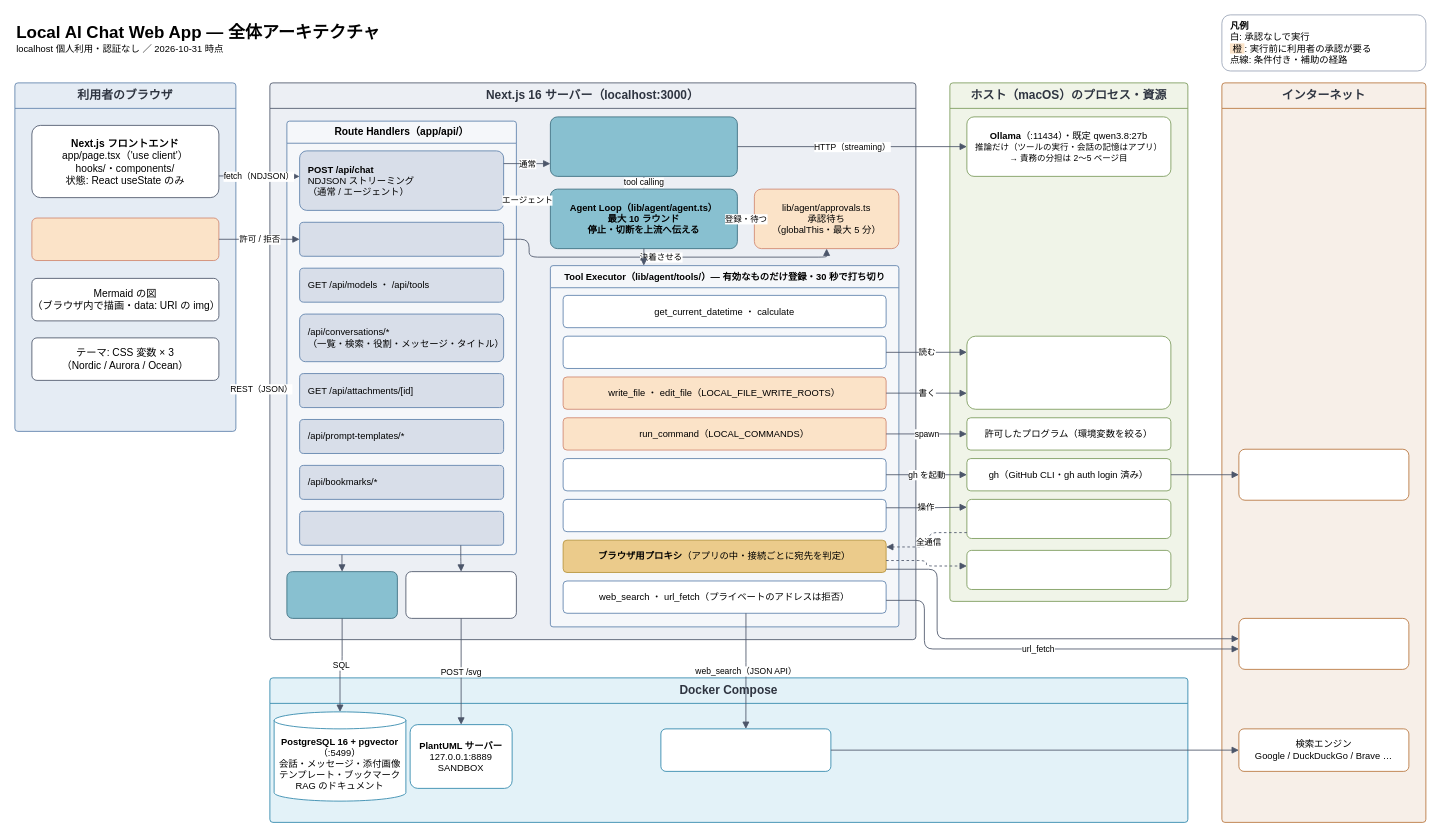
The diagram is 1441 pixels wide and 837 high, and some of its shapes have lost their labels. Each missing label, with the centre of its shape:
"browser_navigate ・ snapshot ・ screenshot ／ click ・ type ・ select" belongs at pixel 724 515.
"Chromium（ヘッドレス・playwright-core） 応答ごとの空のコンテキスト" belongs at pixel 1068 518.
"GitHub （GITHUB_REPOS のリポジトリだけ）" belongs at pixel 1323 474.
"github_list ・ view ・ pr_diff ／ github_comment ・ create_pr" belongs at pixel 724 474.
"lib/llm/ollama.ts 接続先・モデル解決を集約 streamChat / chatOnce / listModels / embed" belongs at pixel 643 146.
"lib/server/ plantuml.ts" belongs at pixel 460 594.
"list_directory ・ search_files ・ read_file（LOCAL_FILE_ROOTS）" belongs at pixel 724 351.
"POST /api/agent/approvals/[id]" belongs at pixel 401 238.
"POST /api/diagrams/plantuml" belongs at pixel 401 527.
"Prisma 7 ORM generated/prisma" belongs at pixel 341 594.
"SearXNG 127.0.0.1:8888" belongs at pixel 745 749.
"ローカルのファイル （許可したフォルダだけ・ .env・鍵などの秘匿ファイルは除外）" belongs at pixel 1068 372.
"公開の Web" belongs at pixel 1323 643.
"手元の開発サーバー（BROWSER_LOCAL_ORIGINS） 最上位が手元のページのときだけ" belongs at pixel 1068 569.
"承認カード（ApprovalCard） 差分・コマンド・送る本文・操作対象" belongs at pixel 125 239.
